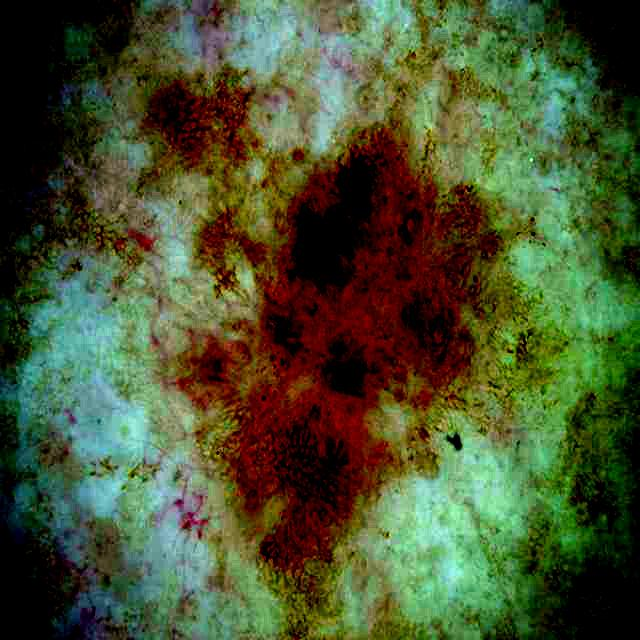MEL: (199, 131, 565, 564), (151, 67, 258, 173)
